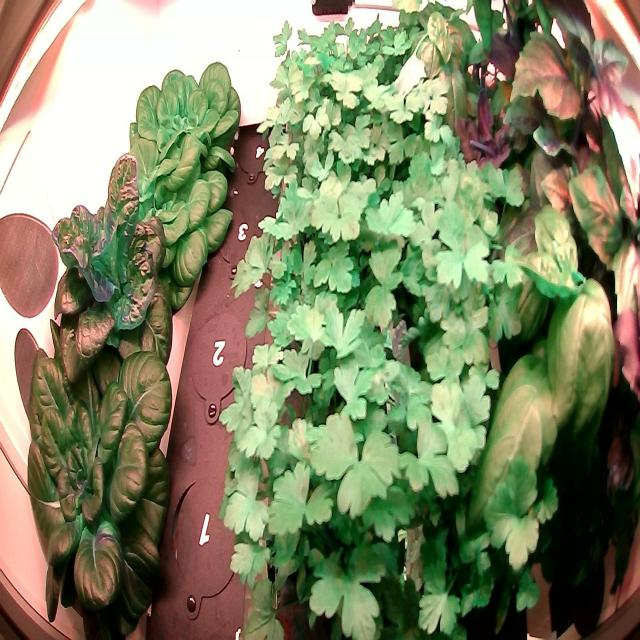Ready: (42, 138, 176, 398), (97, 140, 235, 309), (129, 54, 243, 179)
empty_pod: (162, 462, 248, 616), (182, 301, 260, 425), (209, 197, 271, 281), (236, 114, 284, 195)
young: (17, 302, 184, 639)
